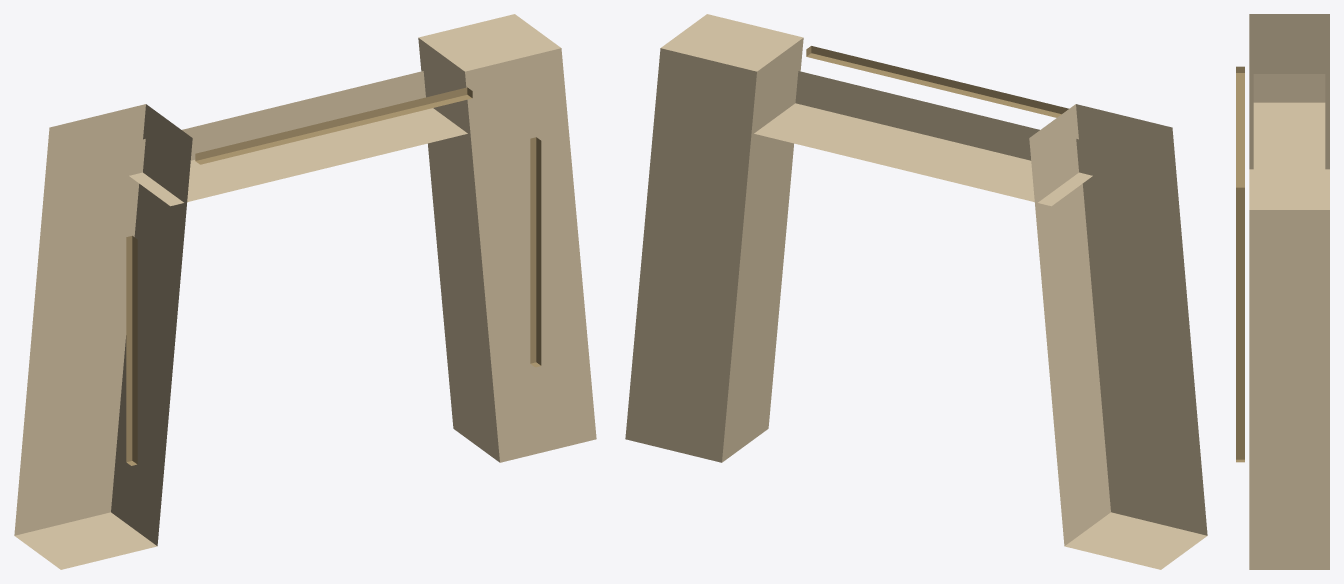
File: egyptian_pylon.glb
The picture shows the model from 3 angles, left to right: view 1: azimuth 30°, elevation 25°; view 2: azimuth 150°, elevation 25°; view 3: azimuth 270°, elevation 25°; orthographic projection. The views are drawn at different scales.
Visible parts, largest first — view 1: egyptian_pylon; view 2: egyptian_pylon; view 3: egyptian_pylon.
Boxes of the visible parts, bbox=[...] form: egyptian_pylon: bbox=[14, 14, 596, 569]; egyptian_pylon: bbox=[625, 14, 1207, 569]; egyptian_pylon: bbox=[1236, 14, 1329, 569].
Size of the model in its own units: 6.1 by 4.35 by 1.07.
